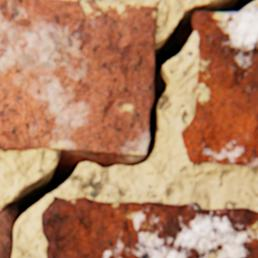brick: (0, 0, 156, 157), (41, 197, 257, 257), (180, 8, 257, 167), (0, 210, 10, 257)
crack: (2, 0, 257, 257)
